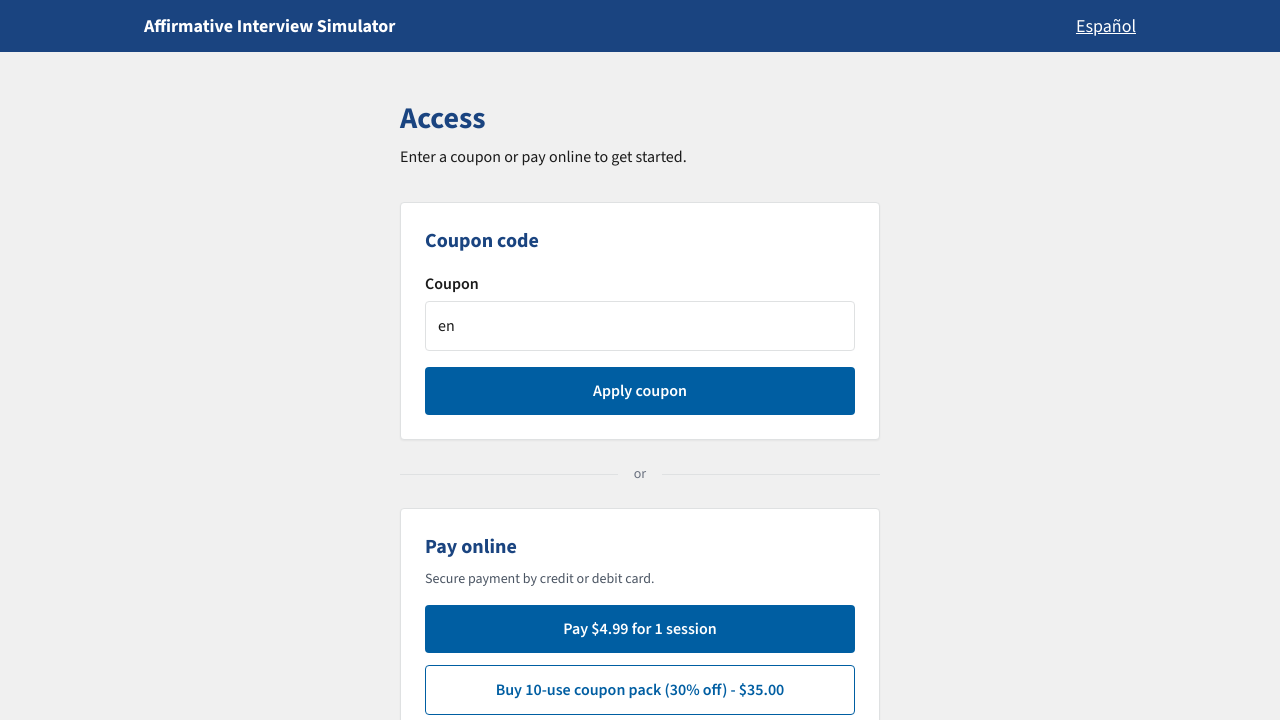
Test: PayPage › shows the network checkout failure when the request rejects
What coordinates should you click on to do the following:
click the button "Pay $4.99 for 1 session"
I would click on:
 (640, 629)
Its box is [425,605,855,653].
(page scrolled)
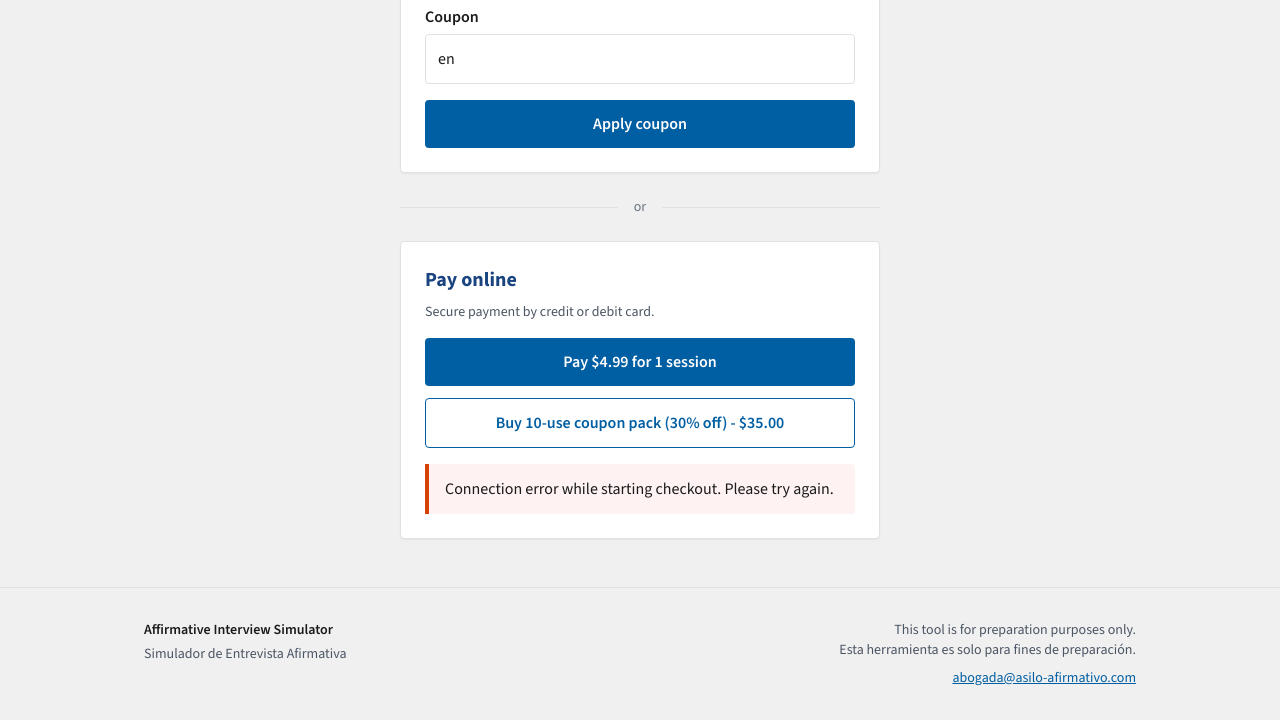
Expected: the text "Connection error while starting checkout. Please try again." is shown, [445,476,839,502]
